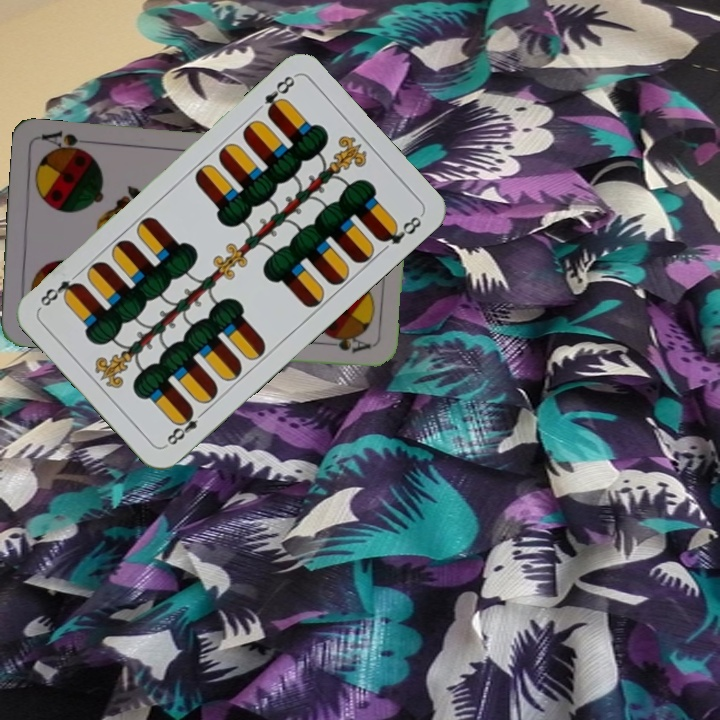E8: (162, 404, 209, 448), (260, 71, 298, 119)
